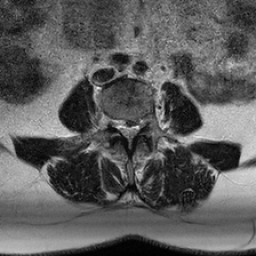CCS_normal: (125, 116, 133, 154)
LFS_normal: (140, 106, 147, 134)
LLS_normal: (133, 116, 140, 141)
RFS_normal: (109, 106, 117, 133)
RLS_normal: (117, 114, 125, 141)
